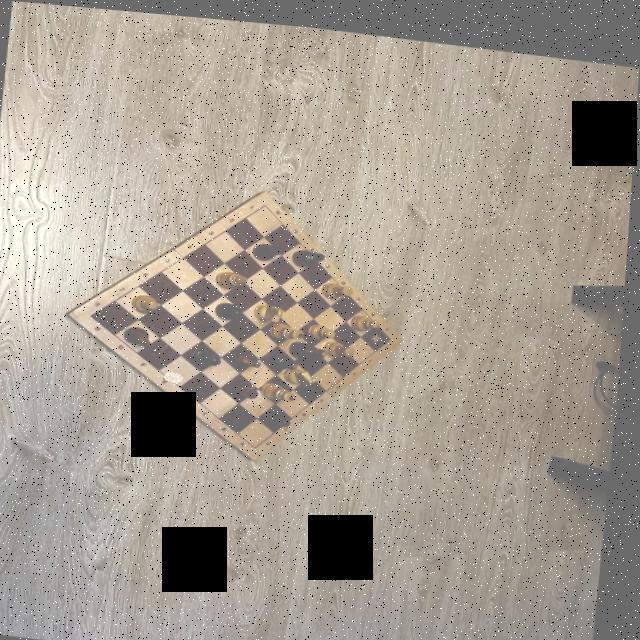chess-table-corners: (90, 308, 98, 318), (263, 198, 270, 203), (391, 328, 396, 334), (258, 439, 262, 445)
